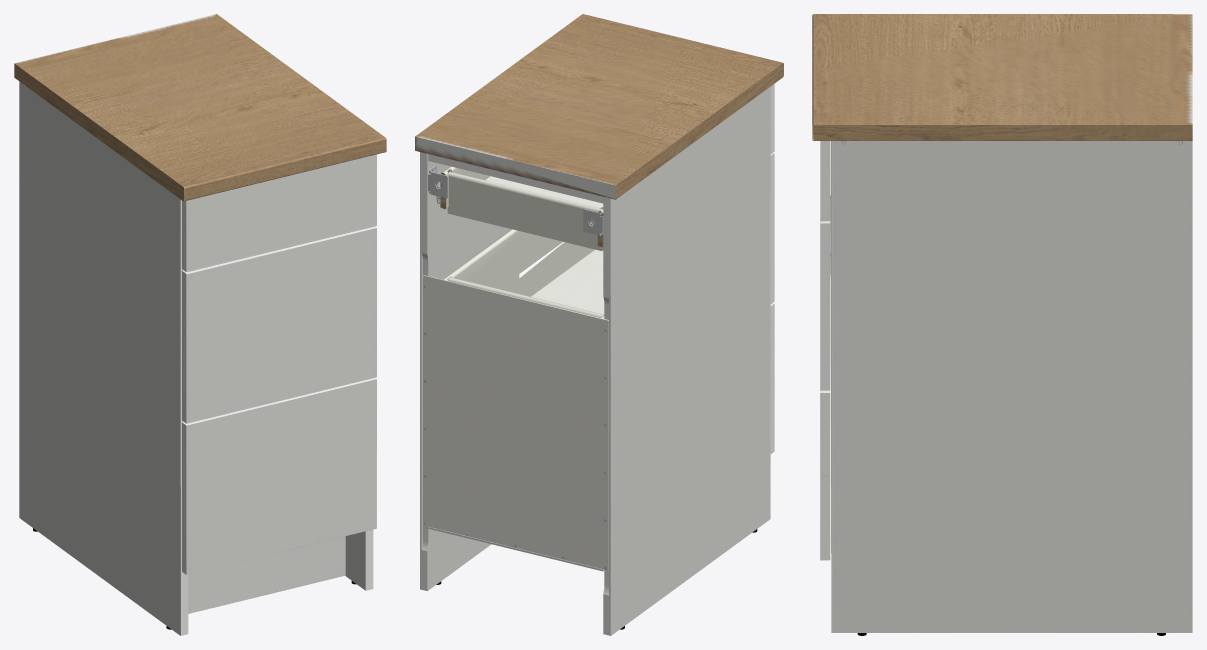
File: knoxhult-ab-cajones-blanco-90326787.glb
3 views of the same model, side by side, from view 1: azimuth 30°, elevation 25°; view 2: azimuth 150°, elevation 25°; view 3: azimuth 270°, elevation 25° (orthographic). The views are drawn at different scales.
Parts seen in each view (by area): view 1: 1; view 2: 1; view 3: 1.
Part boxes in pixels (x1,y1,x2,y2): 1: (14,14,386,635); 1: (415,14,783,635); 1: (812,14,1192,635).
Bounding box in the file's own units: 0.4204 × 0.9095 × 0.61.
Materials: 2 (2 with a texture image).
